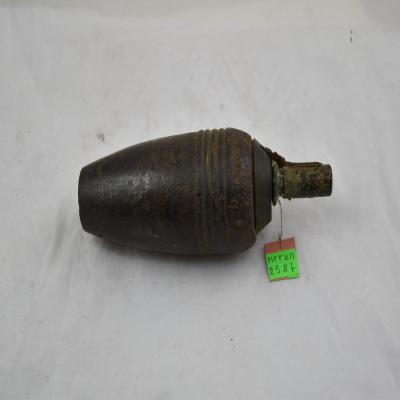other: (77, 128, 334, 260)
